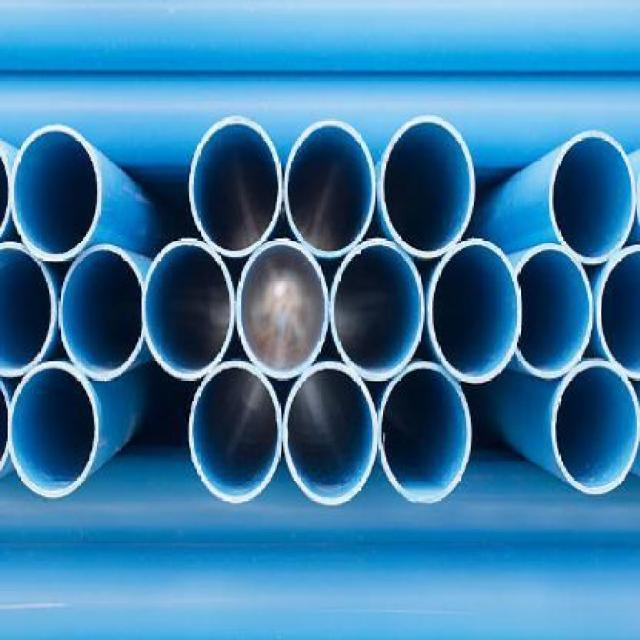pipe: (427, 238, 522, 383), (380, 116, 476, 259), (328, 238, 424, 381), (284, 362, 377, 507), (189, 115, 283, 258), (189, 360, 283, 503), (378, 362, 472, 504), (141, 238, 234, 380), (235, 238, 328, 380), (9, 124, 103, 263), (284, 119, 375, 258), (9, 361, 100, 500), (551, 359, 640, 496), (59, 244, 144, 381), (550, 131, 635, 264), (513, 243, 593, 380), (0, 241, 55, 376), (596, 243, 639, 380)
